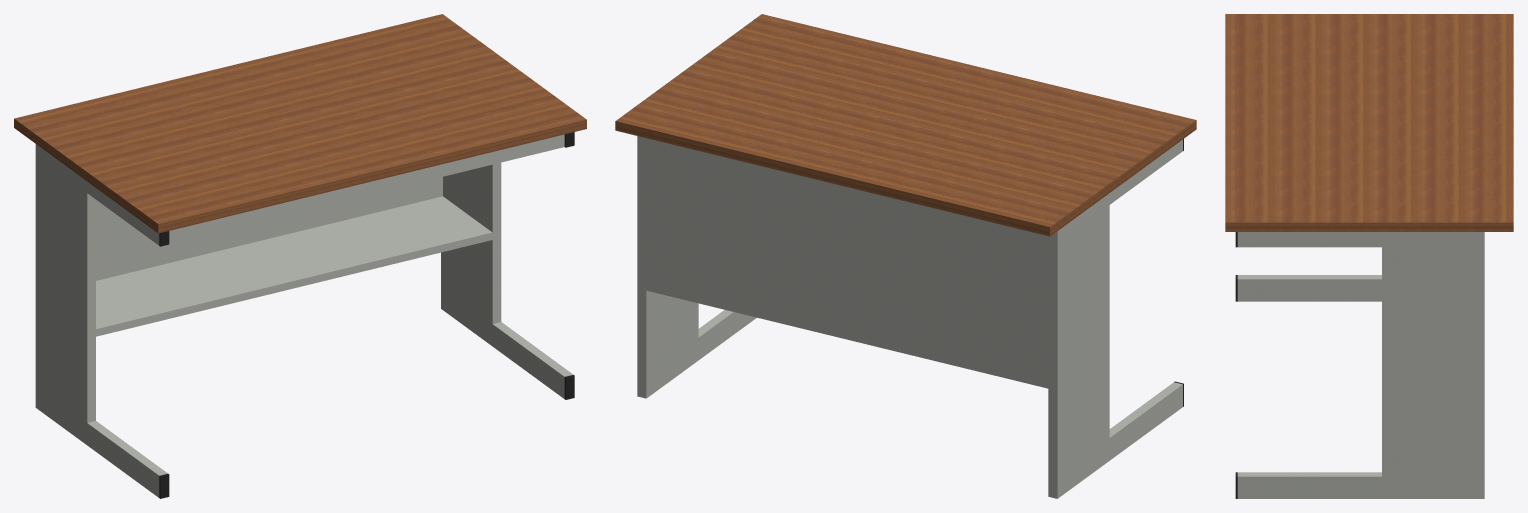
Rendered from deskLecture.gltf.
3 renders of one model, left to right at view 1: azimuth 30°, elevation 25°; view 2: azimuth 150°, elevation 25°; view 3: azimuth 270°, elevation 25°, orthographic.
Visible parts, largest first — view 1: TableTop, UnderTable, TableLeg (×2); view 2: TableTop, UnderTable, TableLeg (×2); view 3: TableTop, TableLeg (×2).
Part boxes in pixels (bbox=[...]): TableTop: bbox=[14, 14, 586, 246]; UnderTable: bbox=[96, 177, 492, 336]; TableLeg (×2): bbox=[35, 156, 574, 498]; TableTop: bbox=[615, 14, 1196, 242]; UnderTable: bbox=[646, 143, 1048, 388]; TableLeg (×2): bbox=[637, 140, 1183, 498]; TableTop: bbox=[1225, 14, 1513, 247]; TableLeg (×2): bbox=[1235, 247, 1484, 498].
Bounding box in the file's own units: 1.2 × 0.75 × 0.7.
Materials: 3 (3 with a texture image).
